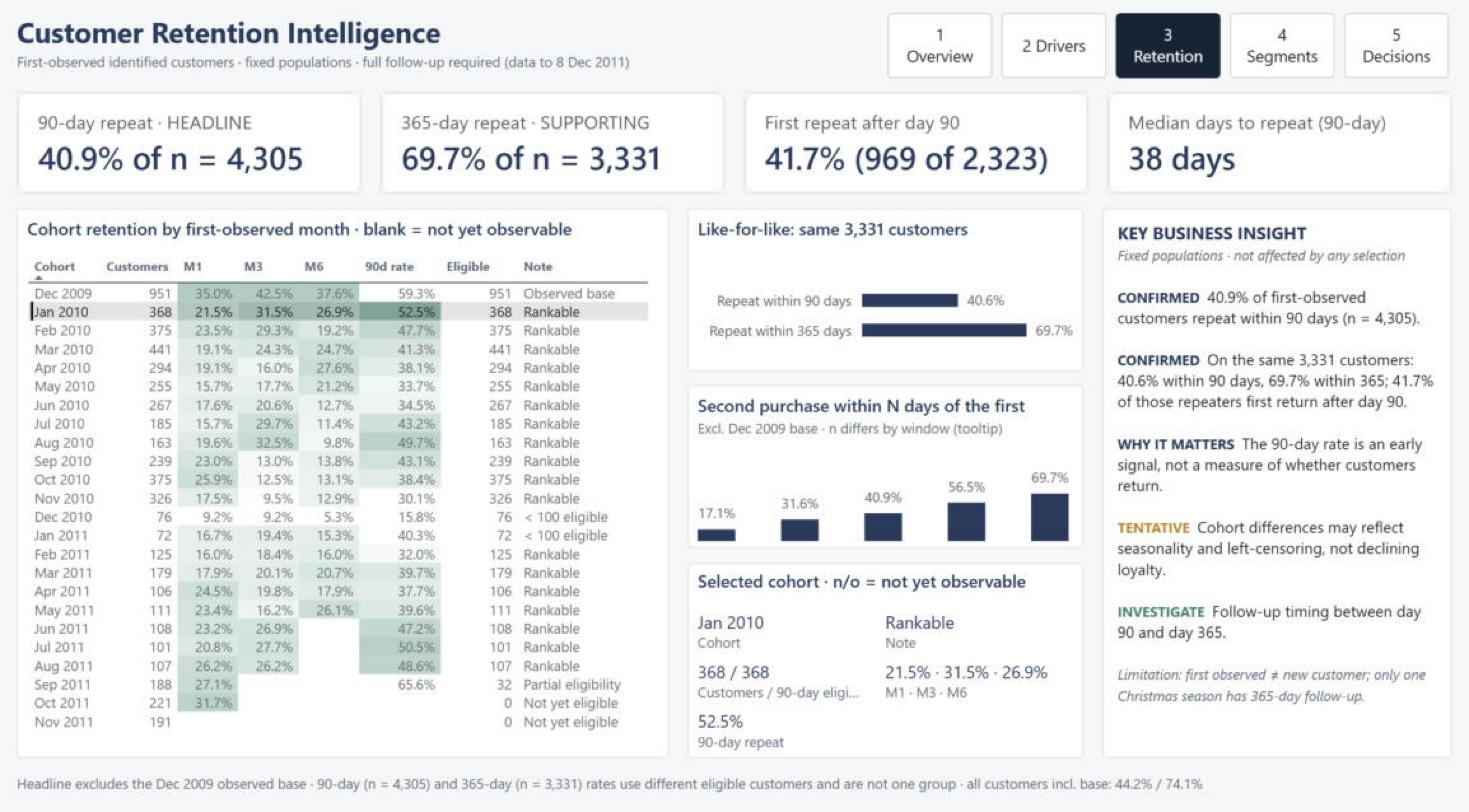

The page's visual inventory and layout, read from the dashboard file:
{"tool":"powerbi","page":{"name":"3 Retention","canvas":[1280,720],"ordinal":2},"visuals":[{"type":"textbox","box":[24,24,740,56],"z":10},{"type":"pageNavigator","box":[772,24,484,56],"z":22},{"type":"cardVisual","fields":{"Data":["_Measures.Card Repeat 90d Headline"]},"box":[24,92,296,88],"z":30},{"type":"cardVisual","fields":{"Data":["_Measures.Card Repeat 365d Headline"]},"box":[336,92,296,88],"z":31},{"type":"cardVisual","fields":{"Data":["_Measures.Card Late Repeat"]},"box":[648,92,296,88],"z":32},{"type":"cardVisual","fields":{"Data":["_Measures.Card Median Days 90d"]},"box":[960,92,296,88],"z":33},{"type":"tableEx","title":"Cohort retention by first-observed month · blank = not yet observable","fields":{"Values":["ref_cohort_presentation.cohort_label","ref_cohort_presentation.cohort_size","_Measures.Cohort M1","_Measures.Cohort M3","_Measures.Cohort M6","_Measures.Cohort 90d Repeat","ref_cohort_presentation.eligible_90d","_Measures.Cohort Note"]},"box":[24,192,560,472],"z":40},{"type":"clusteredBarChart","title":"Like-for-like: same 3,331 customers","fields":{"Category":["p3_lfl_line.line"],"Y":["_Measures.LFL Repeat Rate"]},"box":[600,192,340,140],"z":41},{"type":"clusteredColumnChart","title":"Second purchase within N days of the first","fields":{"Category":["ref_time_to_second.window_days"],"Y":["_Measures.Time to 2nd Rate"]},"box":[600,344,340,140],"z":42},{"type":"multiRowCard","title":"Selected cohort · n/o = not yet observable","fields":{"Values":["_Measures.Cohort Detail Title","_Measures.Cohort Detail Note","_Measures.Cohort Detail Customers","_Measures.Cohort Detail Retention","_Measures.Cohort Detail 90d"]},"box":[600,496,340,168],"z":43},{"type":"textbox","box":[956,192,300,472],"z":50},{"type":"textbox","box":[24,676,1232,20],"z":60}]}

Visuals, with their boxes in screenshot pixels (x1, y1, x2, y2), scaled from the page's 1280x720 canvas onto the 1469x812 screenshot:
textbox: rect(28, 27, 877, 90)
pageNavigator: rect(886, 27, 1441, 90)
cardVisual - _Measures.Card Repeat 90d Headline: rect(28, 104, 367, 203)
cardVisual - _Measures.Card Repeat 365d Headline: rect(386, 104, 725, 203)
cardVisual - _Measures.Card Late Repeat: rect(744, 104, 1083, 203)
cardVisual - _Measures.Card Median Days 90d: rect(1102, 104, 1441, 203)
"Cohort retention by first-observed month · blank = not yet observable" tableEx: rect(28, 217, 670, 749)
"Like-for-like: same 3,331 customers" clusteredBarChart: rect(689, 217, 1079, 374)
"Second purchase within N days of the first" clusteredColumnChart: rect(689, 388, 1079, 546)
"Selected cohort · n/o = not yet observable" multiRowCard: rect(689, 559, 1079, 749)
textbox: rect(1097, 217, 1441, 749)
textbox: rect(28, 762, 1441, 785)
